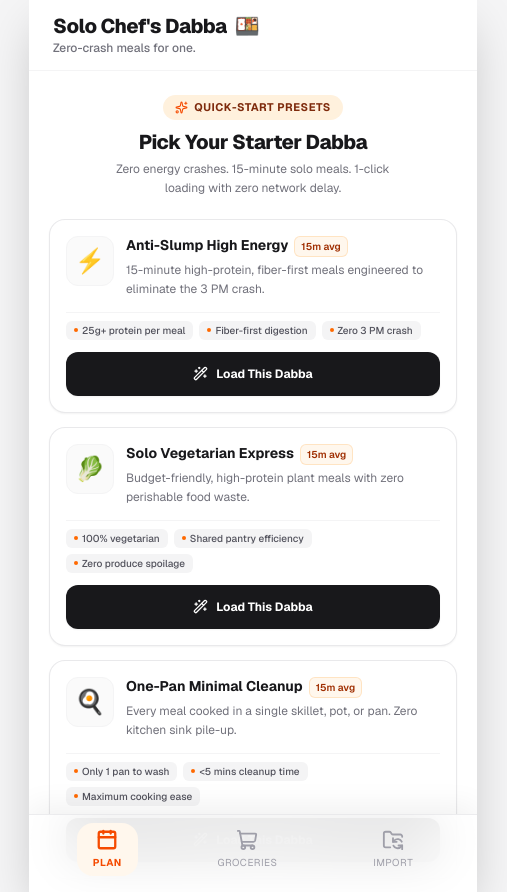
Test: Page › loads curated preset directly from empty state and transitions to plan view
This screenshot has width=507, height=892.
Note: Click load preset on Anti-Slump High Energy
Step 1. Click the button with aria-label "load anti-slump high energy" → (253, 374), box [66, 352, 440, 396]
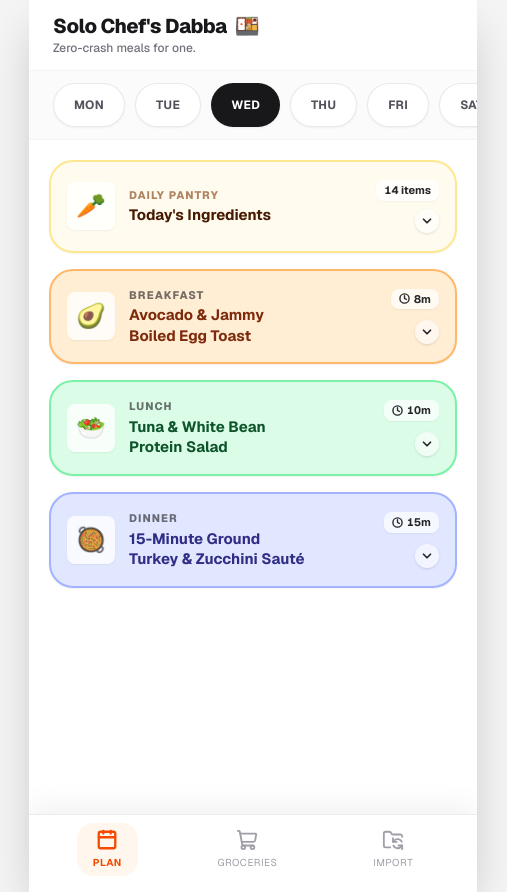
Note: Should switch out of empty state and show Monday's plan
Step 2. Click the button "MON" → (89, 105), box [53, 83, 125, 127]
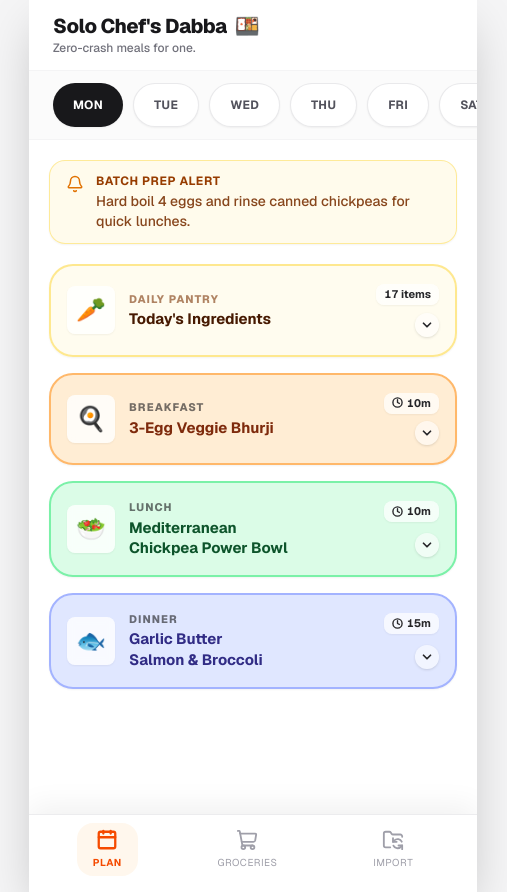
Expected: the heading "Pick Your Starter Dabba" is not shown
Expected: the button "MON" is shown, [53, 83, 123, 127]
Expected: the heading "3-Egg Veggie Bhurji" is shown, [129, 418, 274, 438]
